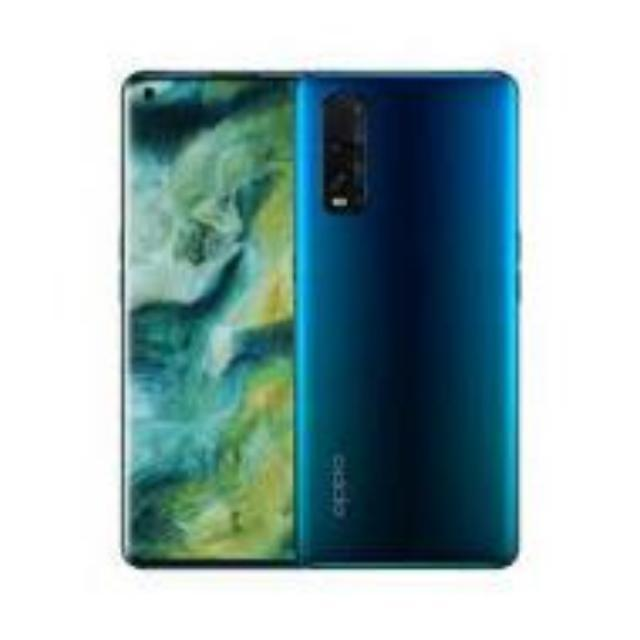PhoneUse: (299, 66, 517, 568), (125, 70, 293, 570)
